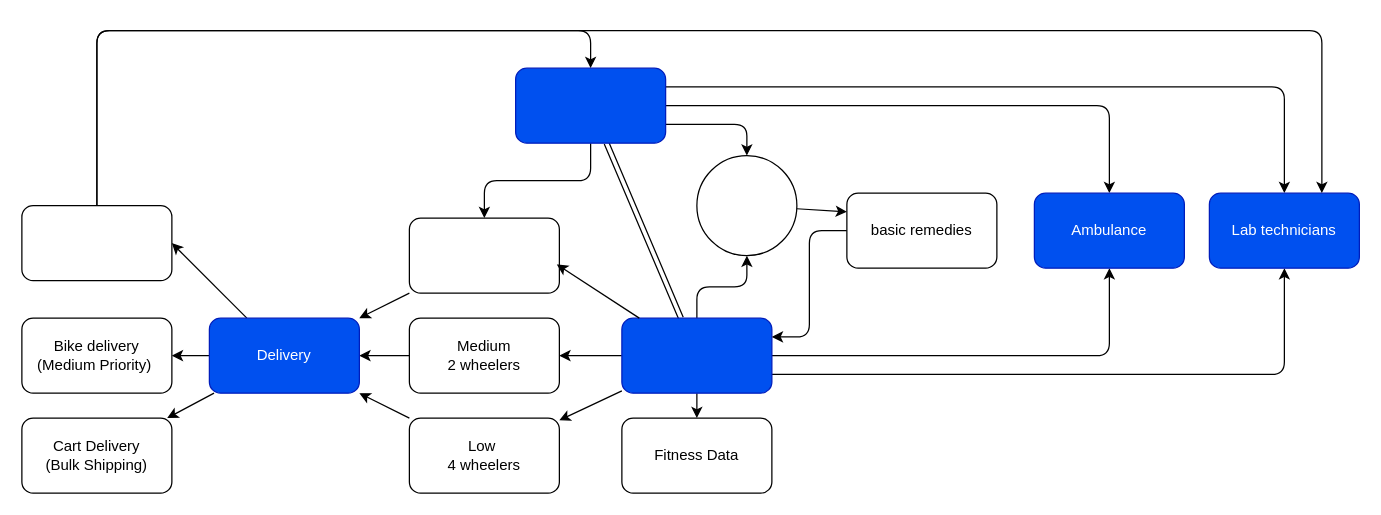
Some shapes in this 1381 by 515 pixel diagram are drawn without their labels. Here are the shapes that lost their labels. From the top down, the centre of each, then its label:
At (590,105): "Doctor".
At (746,205): "Forum media".
At (96,242): "Drone Service (High Priority)".
At (483,255): "High Drones".
At (696,355): "Customer".
